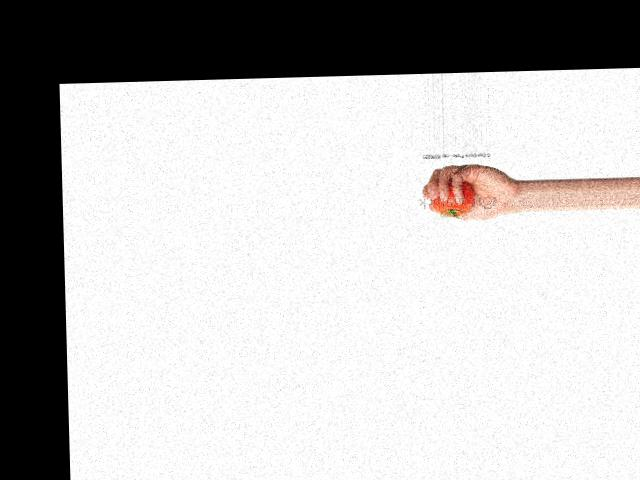tomato: (430, 178, 473, 216)
